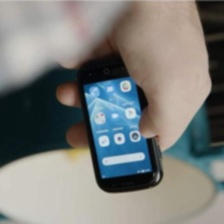phone: (72, 50, 169, 196)
